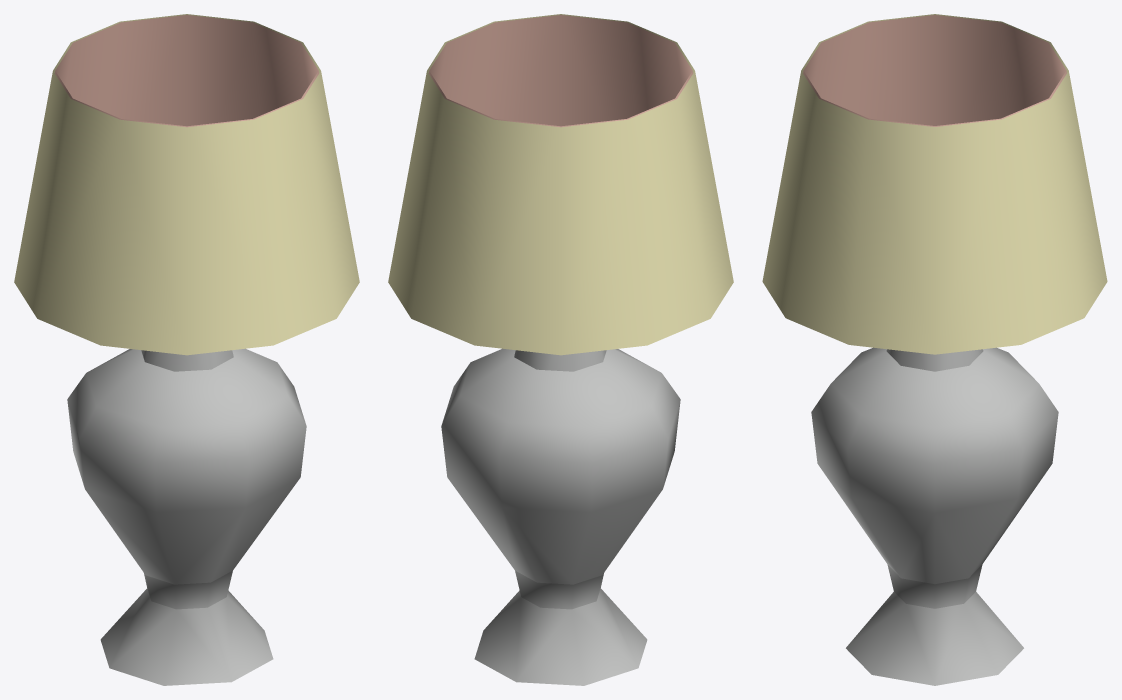
Rendered from SM_lamp_001.FBX.
The picture shows the model from 3 angles, left to right: view 1: azimuth 30°, elevation 25°; view 2: azimuth 150°, elevation 25°; view 3: azimuth 270°, elevation 25°; orthographic projection.
Visible parts, largest first — view 1: SM_lamp_001; view 2: SM_lamp_001; view 3: SM_lamp_001.
Boxes of the visible parts, x1,y1,x2,y2 form: SM_lamp_001: [14, 14, 359, 685]; SM_lamp_001: [388, 14, 733, 685]; SM_lamp_001: [762, 14, 1107, 685].
Bounding box in the file's own units: 30.19 × 30.19 × 55.76.
